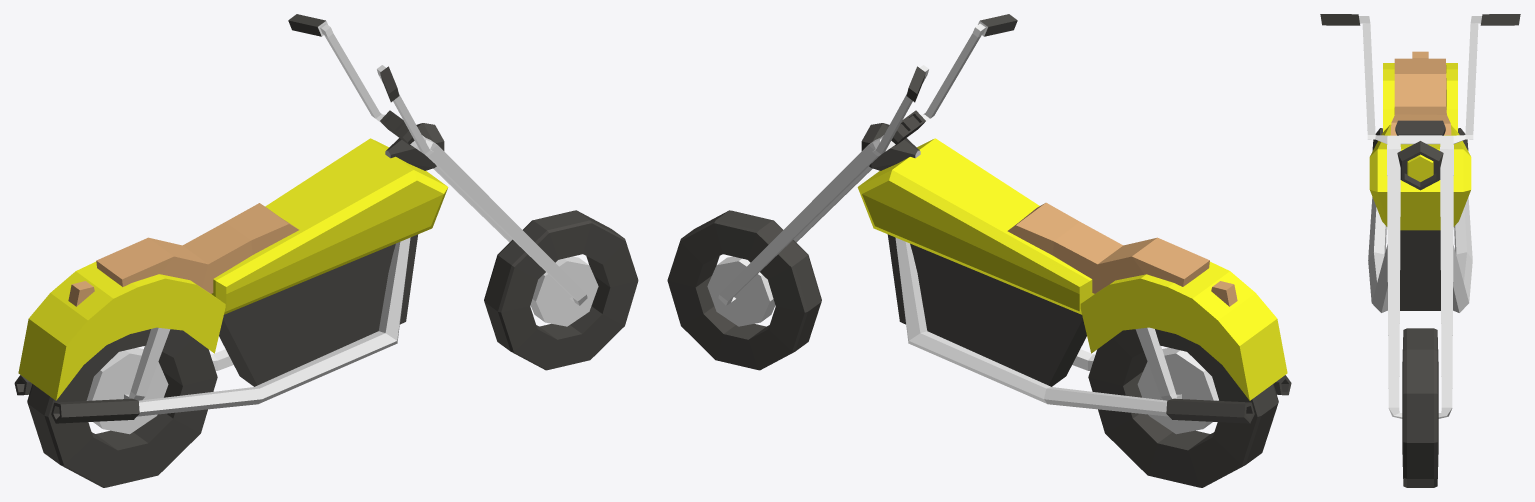
File: chopper.glb
The picture shows the model from 3 angles, left to right: view 1: azimuth 30°, elevation 25°; view 2: azimuth 150°, elevation 25°; view 3: azimuth 270°, elevation 25°; orthographic projection.
Visible parts, largest first — view 1: Chopper; view 2: Chopper; view 3: Chopper.
Boxes of the visible parts, bbox=[...] form: Chopper: bbox=[14, 14, 638, 487]; Chopper: bbox=[667, 14, 1291, 487]; Chopper: bbox=[1320, 14, 1520, 487].
Size of the model in its own units: 2.81 by 1.69 by 0.8233.
